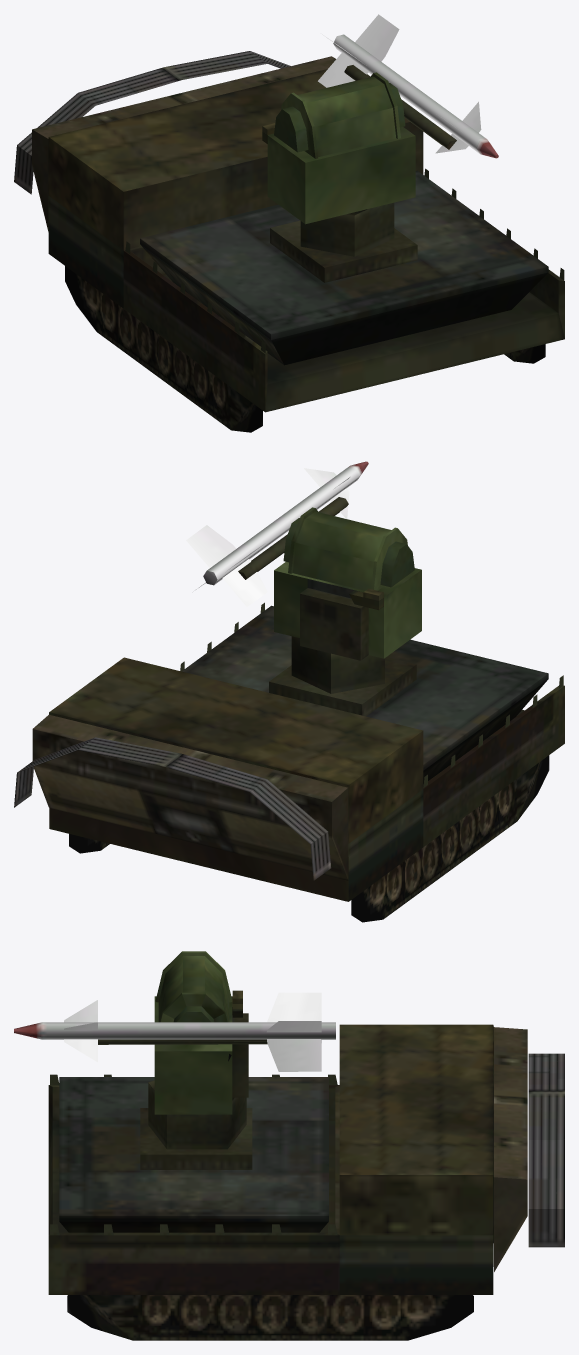
File: RocketCar.FBX
3 views of the same model, one above another, from view 1: azimuth 30°, elevation 25°; view 2: azimuth 150°, elevation 25°; view 3: azimuth 270°, elevation 25° (orthographic). The views are drawn at different scales.
Visible parts, largest first — view 1: RocketCar, Rotate, Rocket, RocketBottom; view 2: RocketCar, Rotate, Rocket, RocketBottom; view 3: RocketCar, Rotate, Rocket, RocketBottom.
Part boxes in pixels (box(x1,y1,x2,y2)): RocketCar: box(14, 51, 564, 432); Rotate: box(262, 72, 415, 224); Rocket: box(318, 14, 498, 158); RocketBottom: box(344, 65, 456, 149); RocketCar: box(14, 602, 564, 922); Rotate: box(274, 507, 421, 660); Rocket: box(186, 461, 368, 606); RocketBottom: box(238, 497, 348, 579); RocketCar: box(48, 1024, 564, 1340); Rotate: box(154, 951, 248, 1114); Rocket: box(14, 992, 335, 1071); RocketBottom: box(98, 1039, 267, 1044).
Size of the model in its own units: 506 by 785 by 468.
